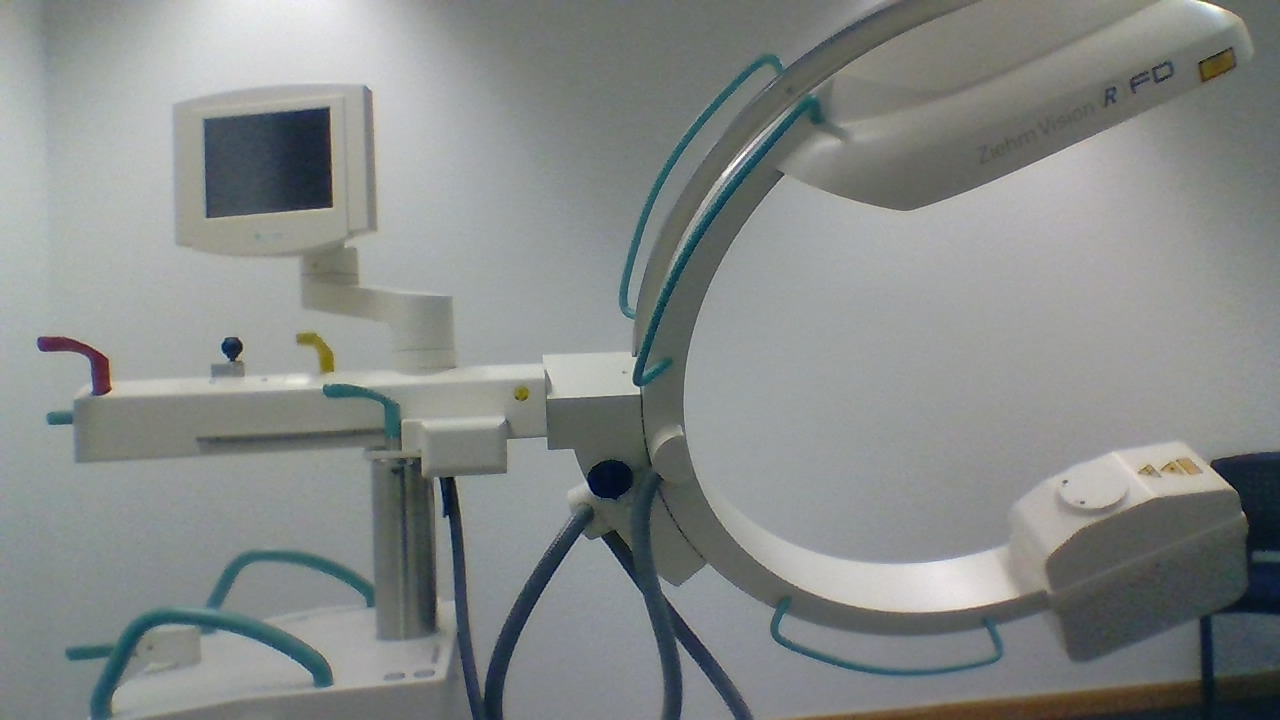carmBACK: (63, 624, 201, 667)
carmDOWN: (1003, 440, 1245, 591)
carmLOCK: (586, 457, 635, 498)
carmSCREEN: (170, 82, 378, 259)
carmUP: (773, 3, 1254, 211)
